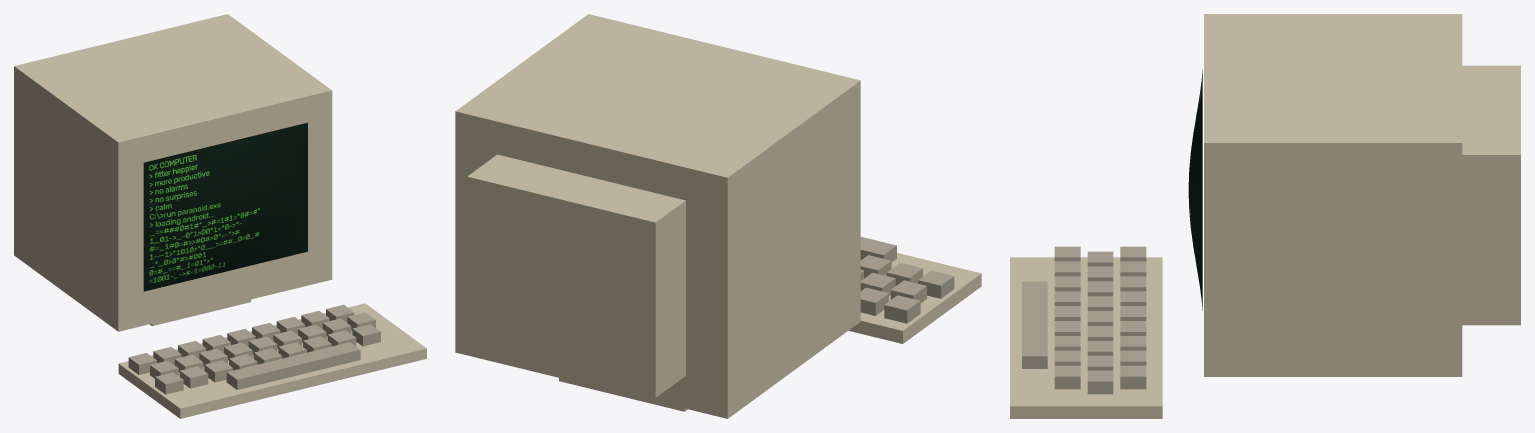
File: ordinateur.obj
3 views of the same model, side by side, from view 1: azimuth 30°, elevation 25°; view 2: azimuth 150°, elevation 25°; view 3: azimuth 270°, elevation 25° (orthographic). The views are drawn at different scales.
Visible parts, largest first — view 1: moniteur, ecran, touches, clavier; view 2: moniteur, touches, clavier; view 3: moniteur, touches, clavier, ecran.
Boxes of the visible parts, <box> form: moniteur: <box>14,14,332,331</box>; ecran: <box>143,122,307,291</box>; touches: <box>128,304,380,394</box>; clavier: <box>118,303,426,418</box>; moniteur: <box>455,14,860,418</box>; touches: <box>860,237,954,323</box>; clavier: <box>848,253,981,343</box>; moniteur: <box>1204,14,1520,376</box>; touches: <box>1022,246,1146,394</box>; clavier: <box>1010,257,1162,418</box>; ecran: <box>1188,69,1202,310</box>.
Bounding box in the file's own units: 0.3 × 0.25 × 0.435.
3 materials, 1 textured.
